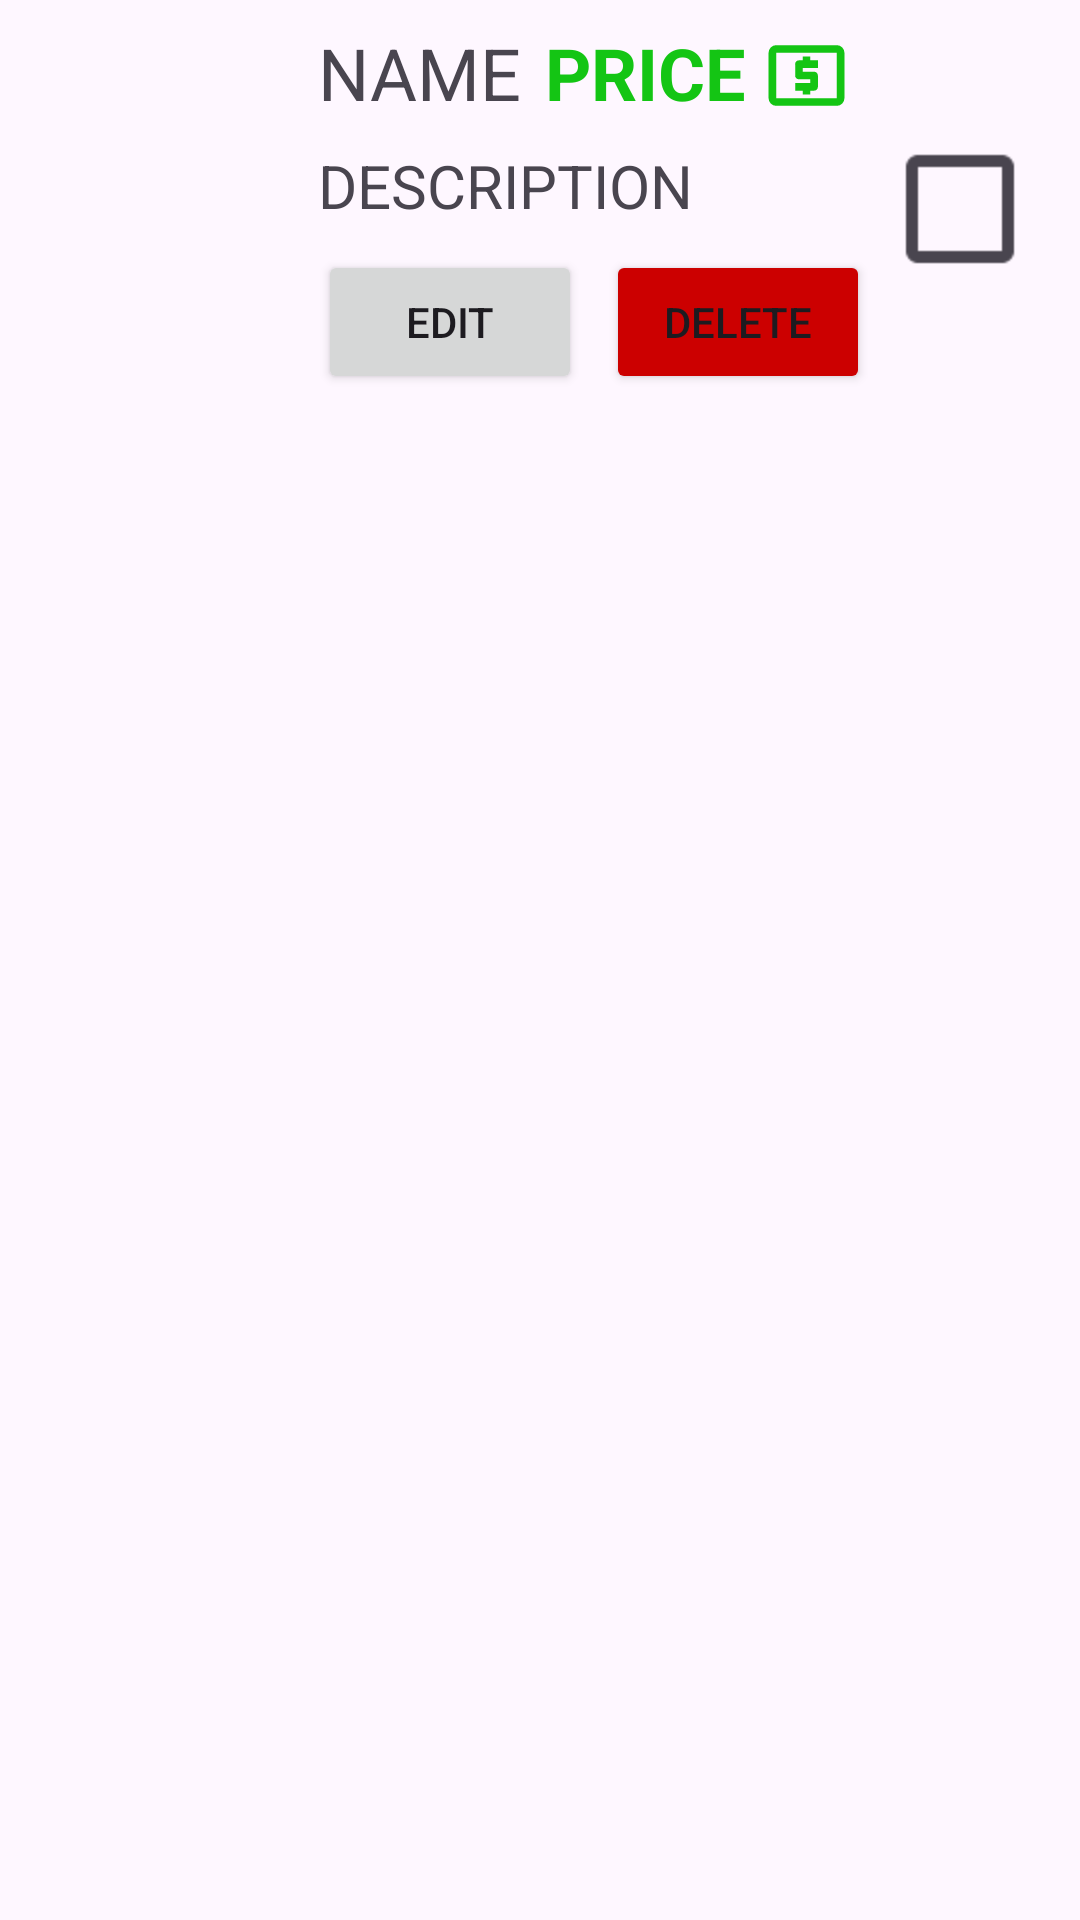

Where icons sit on this 1080*1920 app screen, as (x1, y1, x2, y2):
money: (768, 45, 845, 106)
